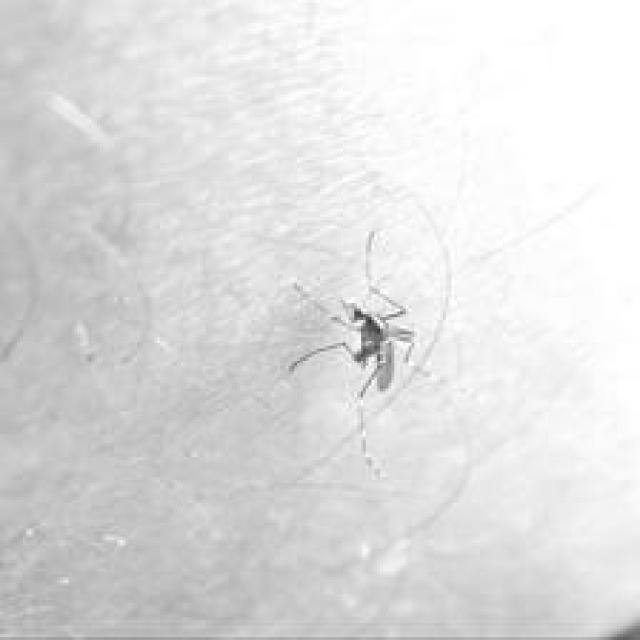Aedes albopictus: (286, 227, 423, 479)
